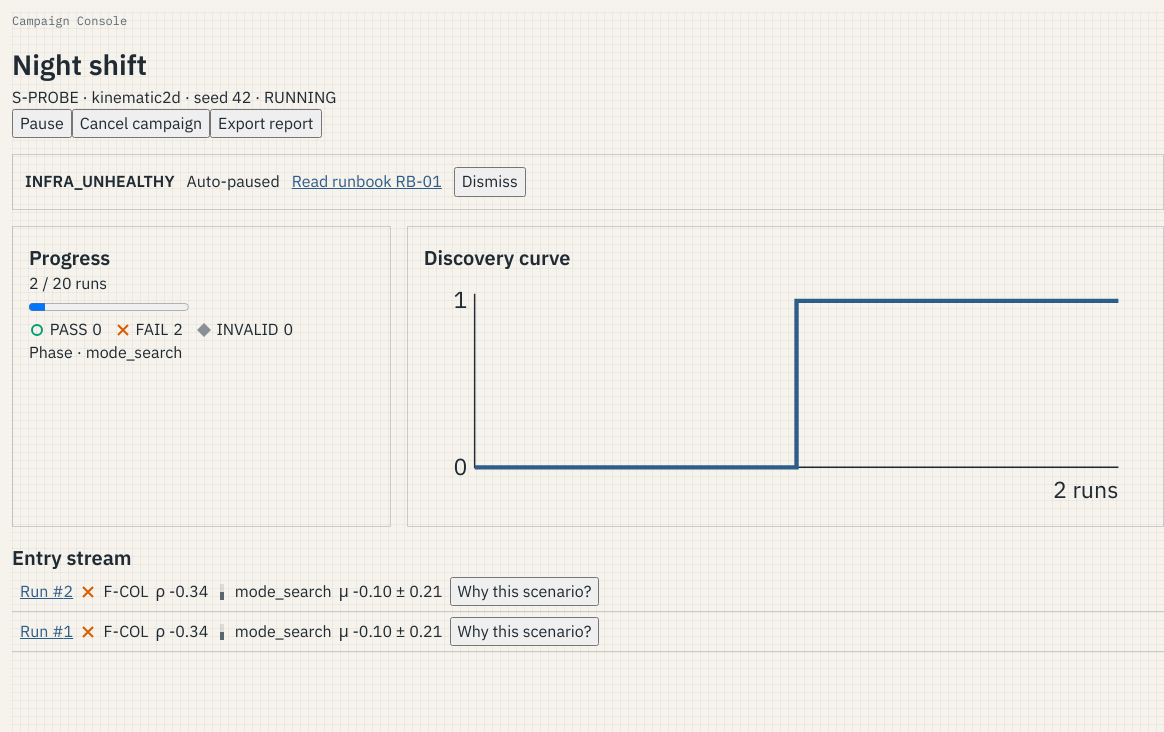
updates live counters and entries and shows a dismissible scoped alert
Expected: the link "Run #1" is shown, [20,620,73,643]
Expected: the text "2 / 20 runs" is shown, [29,272,107,292]
Click the button "Dismiss": (490,182) [454,167,526,197]
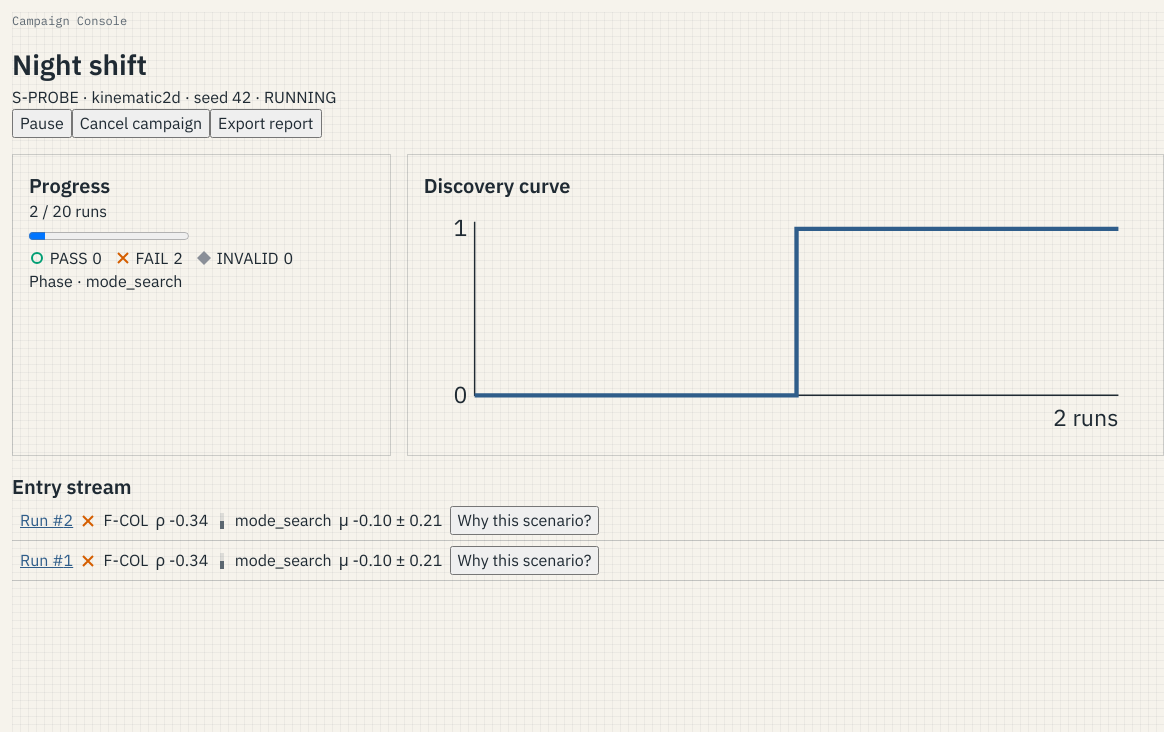
Expected: the message "INFRA_UNHEALTHY Auto-paused Read runbook RB-01 Dismiss" is gone
